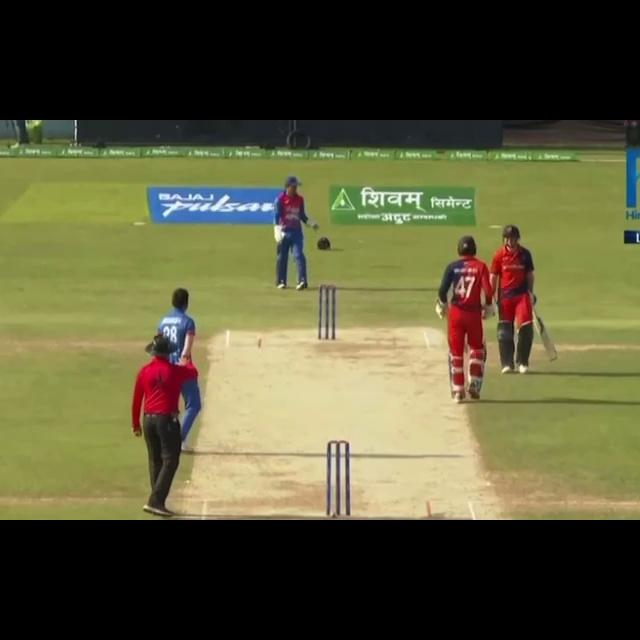umpire: (124, 334, 205, 519)
